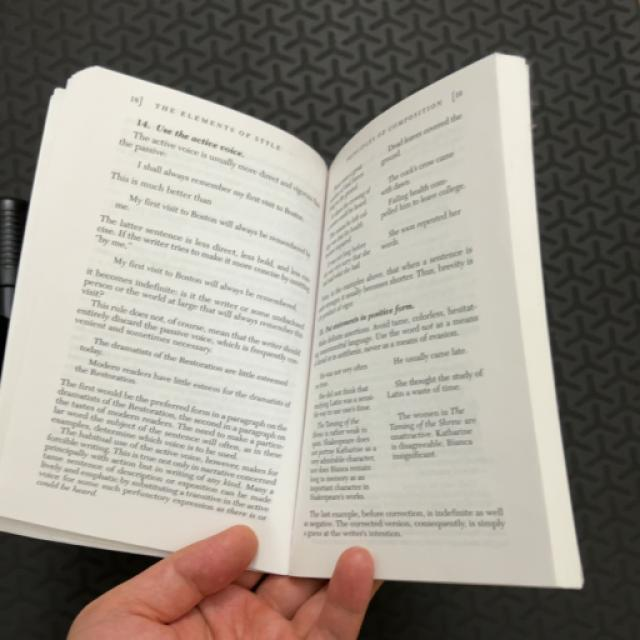document: (0, 68, 326, 571), (296, 54, 581, 586)
